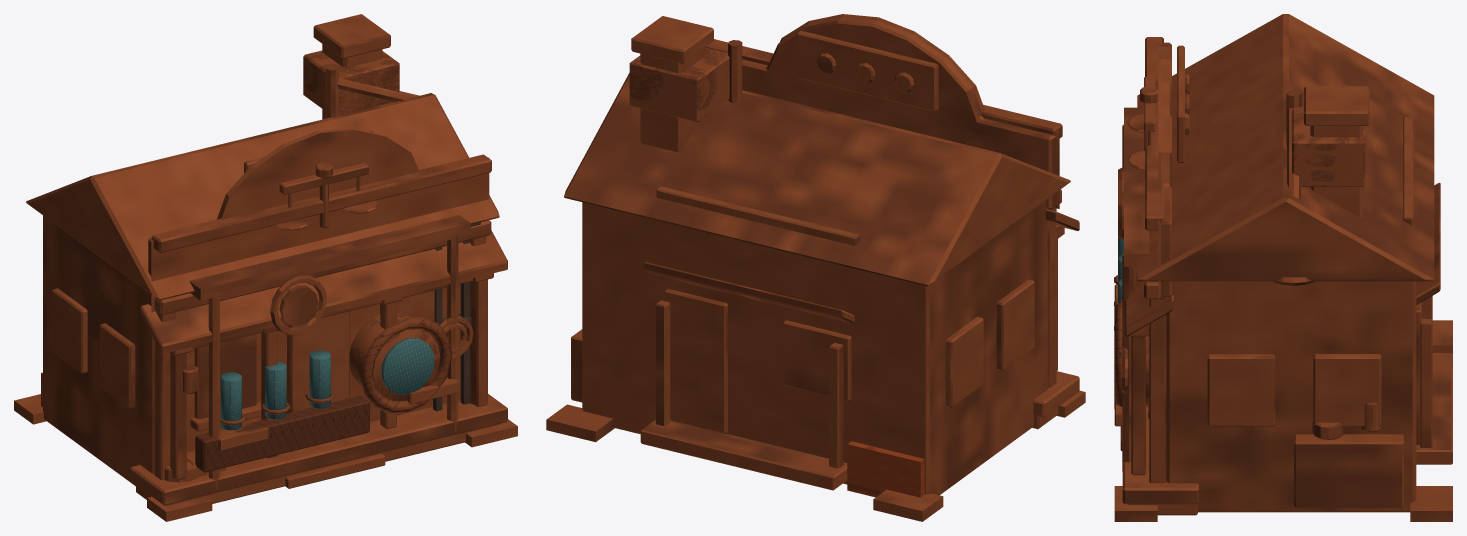
Rendered from assay-office.e9.glb.
3 renders of one model, left to right at view 1: azimuth 30°, elevation 25°; view 2: azimuth 150°, elevation 25°; view 3: azimuth 270°, elevation 25°, orthographic. The views are drawn at different scales.
Parts seen in each view (by area): view 1: AssayOfficeE9IceQuarryRig; view 2: AssayOfficeE9IceQuarryRig; view 3: AssayOfficeE9IceQuarryRig.
Boxes of the visible parts, x1,y1,x2,y2 form: AssayOfficeE9IceQuarryRig: (14, 14, 517, 521); AssayOfficeE9IceQuarryRig: (546, 14, 1085, 521); AssayOfficeE9IceQuarryRig: (1114, 14, 1452, 521).
Bounding box in the file's own units: 4.42 × 4.2 × 3.33.
Materials: 1 (1 with a texture image).
